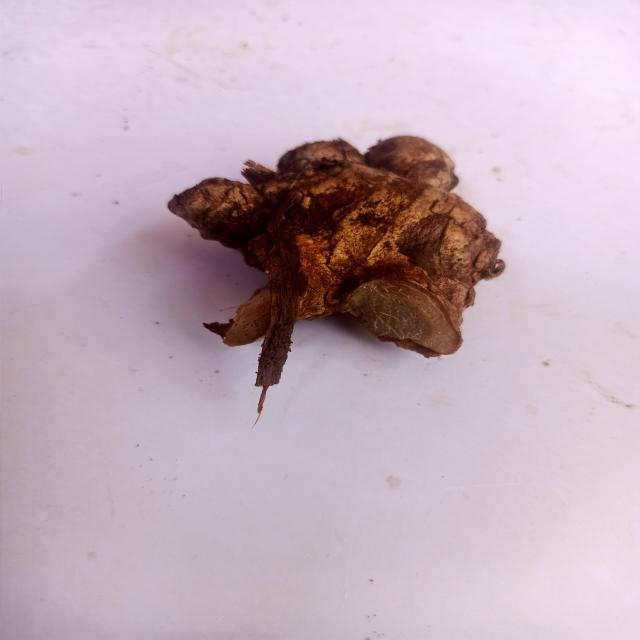Ginger: (161, 130, 524, 423)
